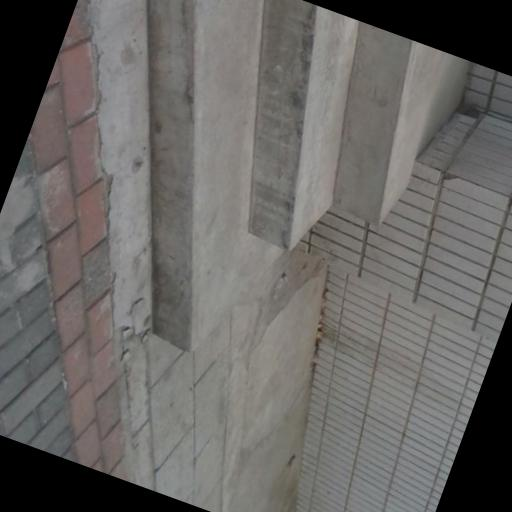stairs: (148, 0, 462, 348)
